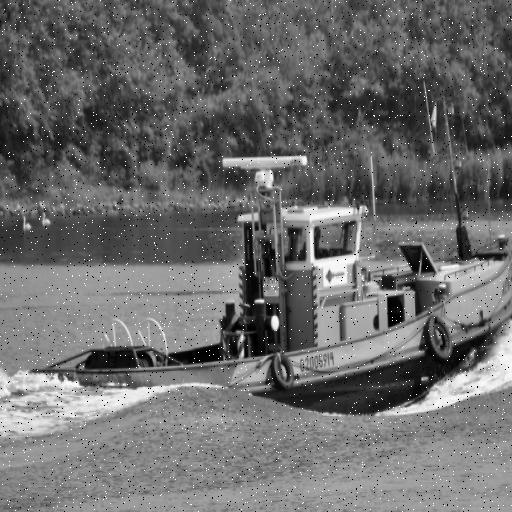tugboat: (26, 145, 512, 440)
